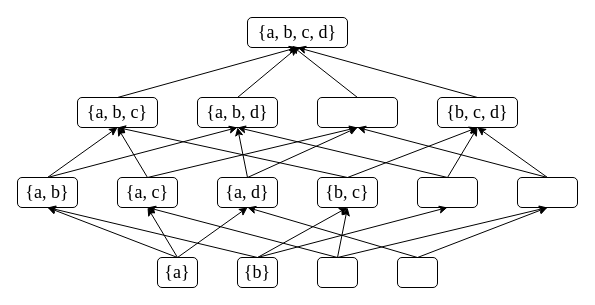
Some shapes in this 595 by 305 pixel diagram are drawn without their labels. Each missing label, with the box of its shape:
{a, c, d}: (316, 96, 398, 128)
{b, d}: (416, 176, 478, 208)
{c, d}: (516, 176, 578, 208)
{c}: (316, 256, 358, 288)
{d}: (396, 256, 438, 288)
